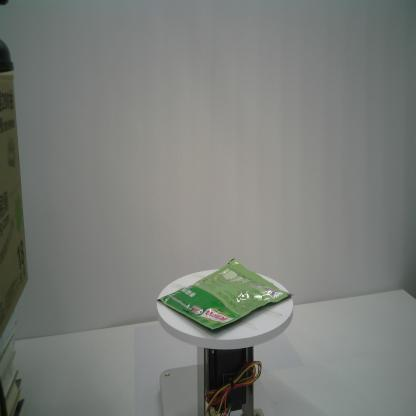Seasoner: (157, 258, 295, 330)
